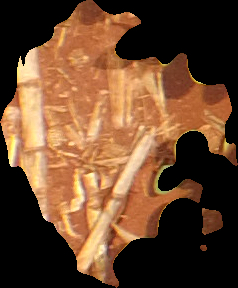soil: (2, 3, 238, 286)
